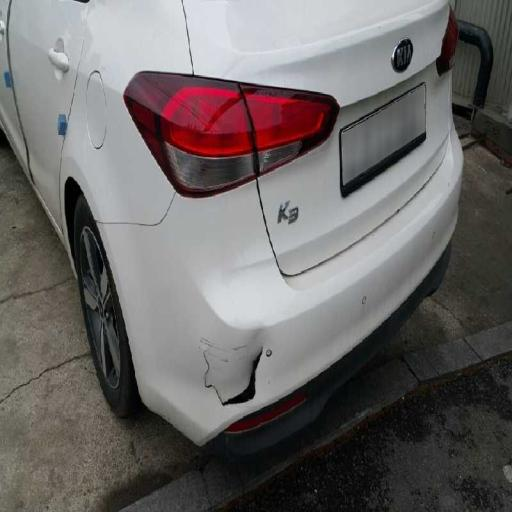broken: (161, 270, 318, 424)
